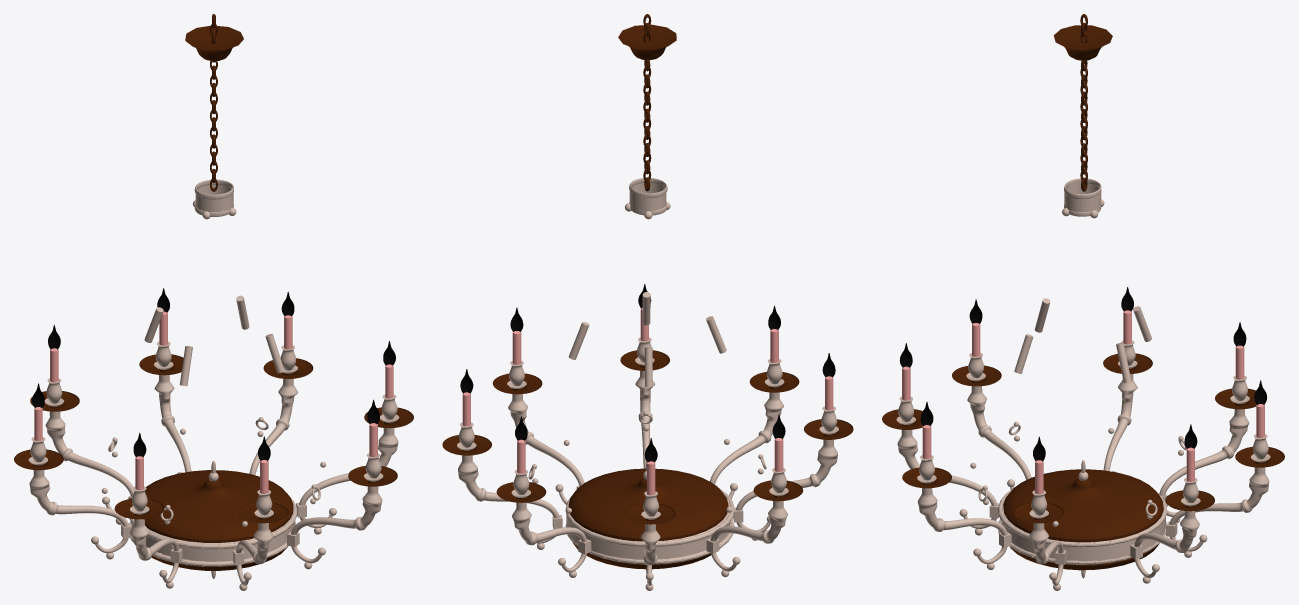
File: Classical Ceiling Lamp.FBX
3 renders of one model, left to right at view 1: azimuth 30°, elevation 25°; view 2: azimuth 150°, elevation 25°; view 3: azimuth 270°, elevation 25°, orthographic.
Parts seen in each view (by area): view 1: Line01, Tube02, Loft02, Loft06, Line339, Loft05, Tube01, Loft03, Loft01, Loft07, Loft08, Loft04 (+8 smaller); view 2: Line01, Tube02, Tube01, Line339, Loft02, Loft03, Loft04, Loft01, Loft08, Loft07, Tube03, Loft06 (+9 smaller); view 3: Line01, Tube01, Tube02, Line339, Loft06, Loft05, Loft03, Loft07, Loft08, Loft04, Loft02, Loft01 (+7 smaller).
Boxes of the visible parts, left/top/right/bottom form: Line01: left=144, top=470, right=293, bottom=570; Tube02: left=129, top=498, right=297, bottom=566; Loft02: left=29, top=470, right=128, bottom=553; Loft06: left=291, top=486, right=382, bottom=563; Line339: left=185, top=25, right=243, bottom=61; Loft05: left=45, top=411, right=134, bottom=517; Tube01: left=131, top=520, right=295, bottom=562; Loft03: left=154, top=375, right=191, bottom=472; Loft01: left=299, top=428, right=398, bottom=528; Loft07: left=130, top=519, right=179, bottom=583; Loft08: left=249, top=378, right=297, bottom=475; Loft04: left=236, top=523, right=273, bottom=585; Line01: left=568, top=468, right=728, bottom=569; Tube02: left=565, top=488, right=734, bottom=564; Tube01: left=566, top=514, right=730, bottom=561; Line339: left=618, top=24, right=676, bottom=60; Loft02: left=710, top=501, right=787, bottom=571; Loft03: left=512, top=502, right=587, bottom=572; Loft04: left=709, top=392, right=783, bottom=499; Loft01: left=508, top=394, right=584, bottom=504; Loft08: left=458, top=455, right=559, bottom=543; Loft07: left=736, top=439, right=837, bottom=532; Tube03: left=629, top=183, right=666, bottom=212; Loft06: left=635, top=370, right=654, bottom=468; Line01: left=1003, top=469, right=1163, bottom=570; Tube01: left=1001, top=517, right=1165, bottom=562; Tube02: left=998, top=489, right=1167, bottom=564; Line339: left=1053, top=25, right=1112, bottom=60; Loft06: left=917, top=488, right=1007, bottom=564; Loft05: left=1159, top=409, right=1249, bottom=516; Loft03: left=1169, top=467, right=1269, bottom=551; Loft07: left=967, top=386, right=1031, bottom=489; Loft08: left=1134, top=511, right=1199, bottom=578; Loft04: left=897, top=429, right=997, bottom=528; Loft02: left=1103, top=374, right=1137, bottom=471; Loft01: left=1029, top=523, right=1063, bottom=585.
Size of the model in its own units: 234 by 361 by 234.
